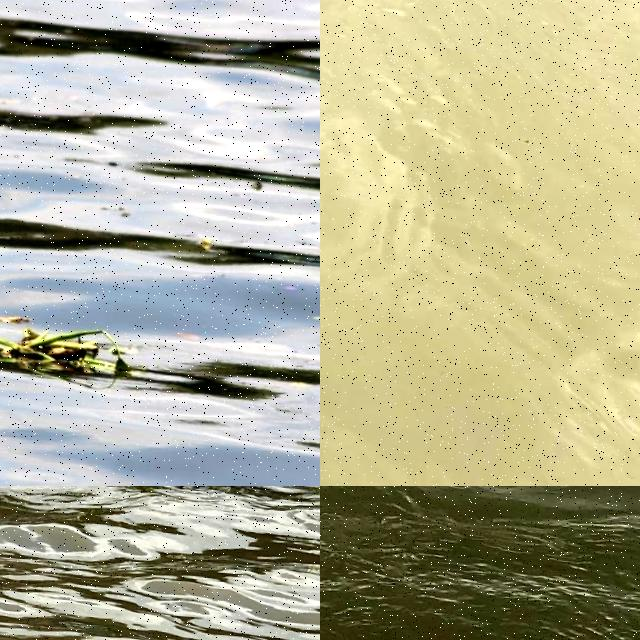water-hyacinth: (1, 307, 137, 385)
